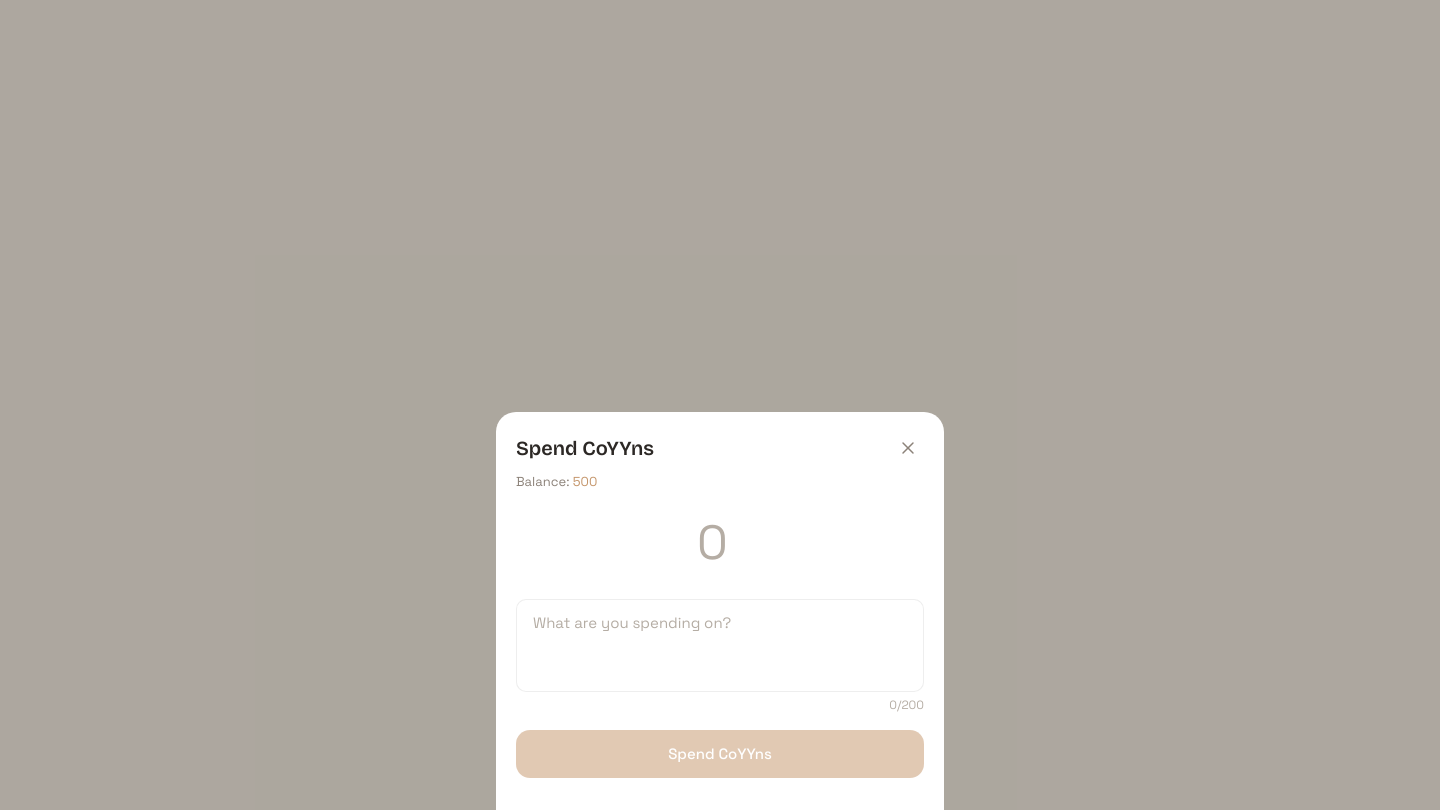
Test: SpendCoyynsForm › shows root error if spendCoyyns throws
Type "50" into the number field with test id "spend-amount-input".
click(720, 547); type("50")  # box [516, 512, 924, 582]
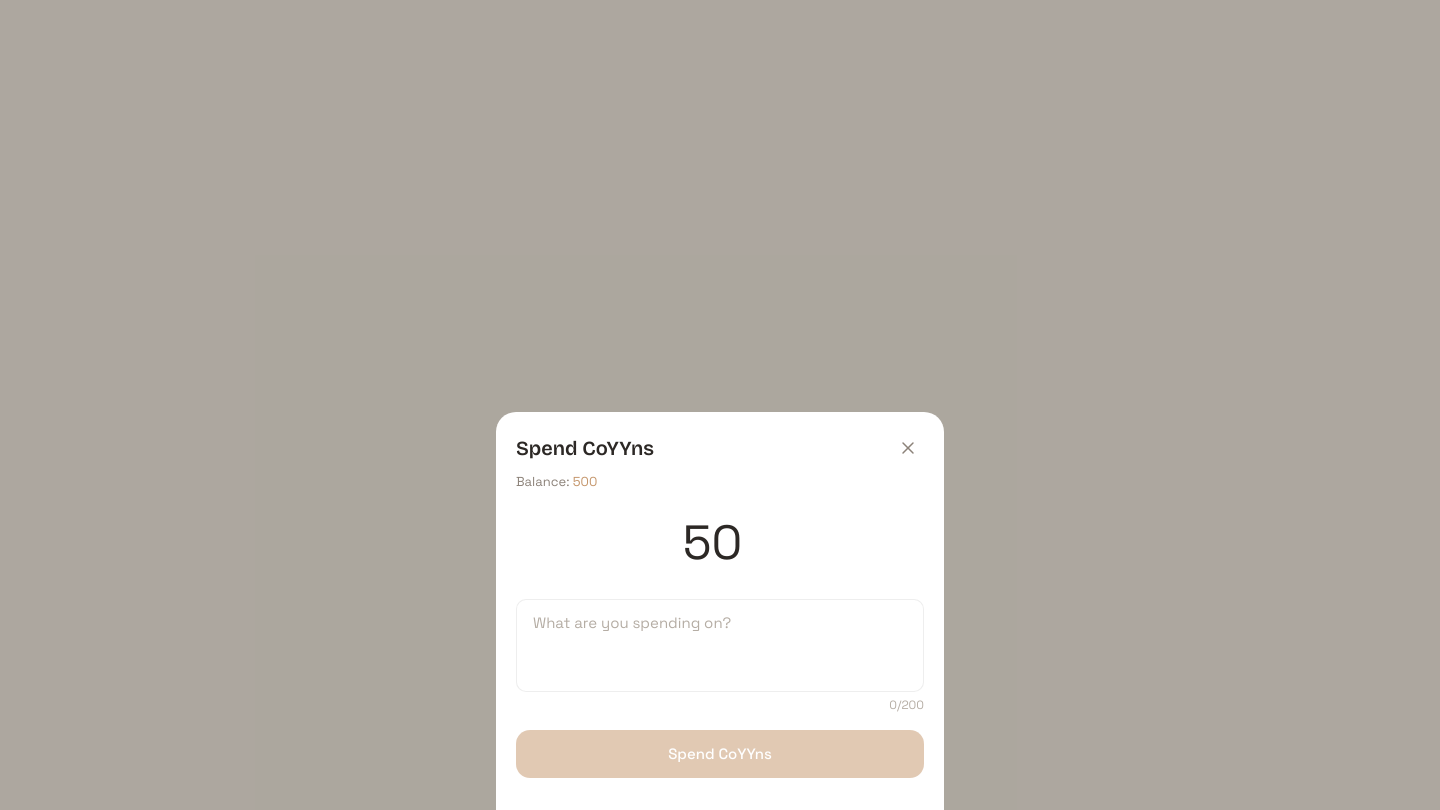
Type "Test" into the text box with test id "spend-description-input".
click(720, 645); type("Test")  # box [516, 598, 924, 692]
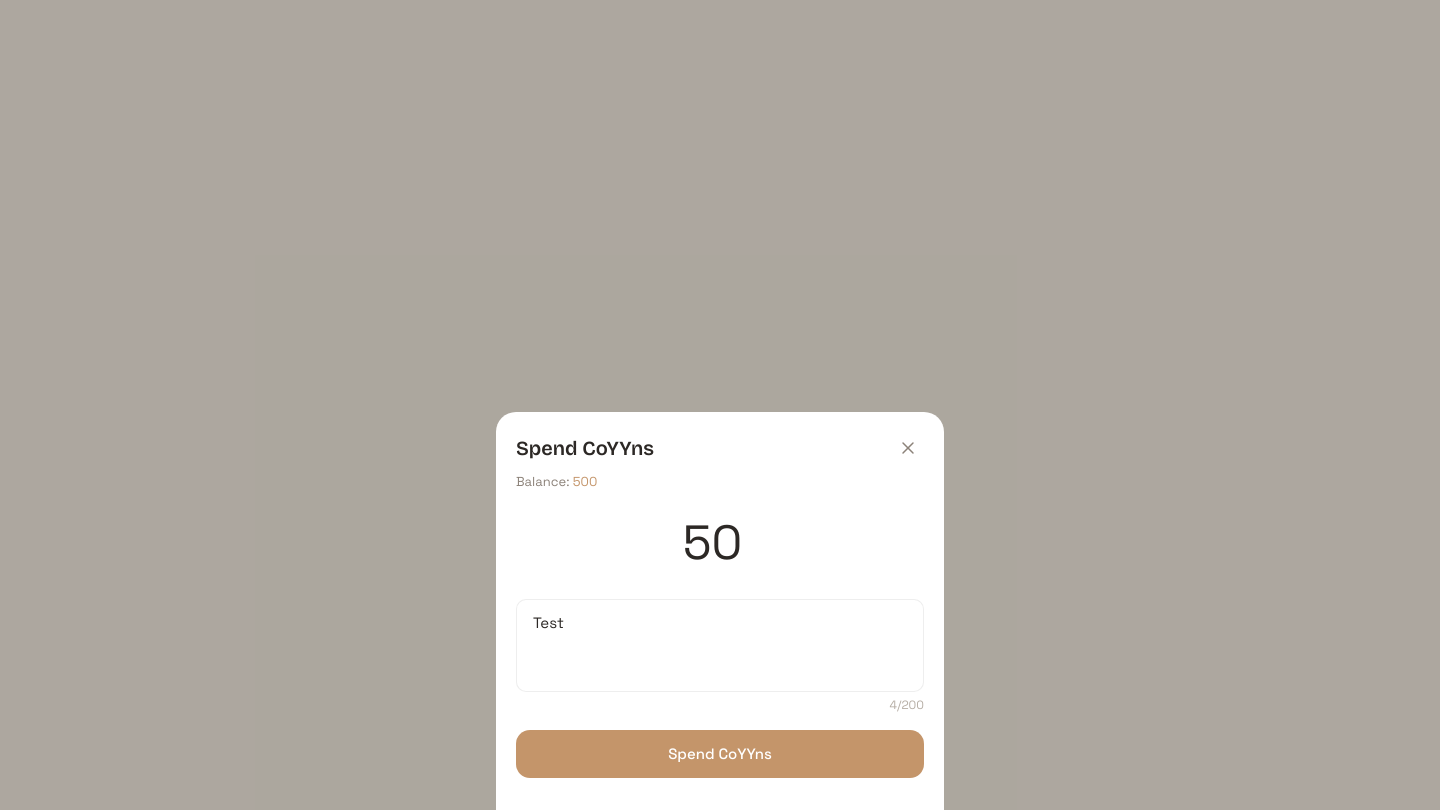
Click the button with test id "spend-submit-button".
click(720, 754)  # box [516, 730, 924, 778]
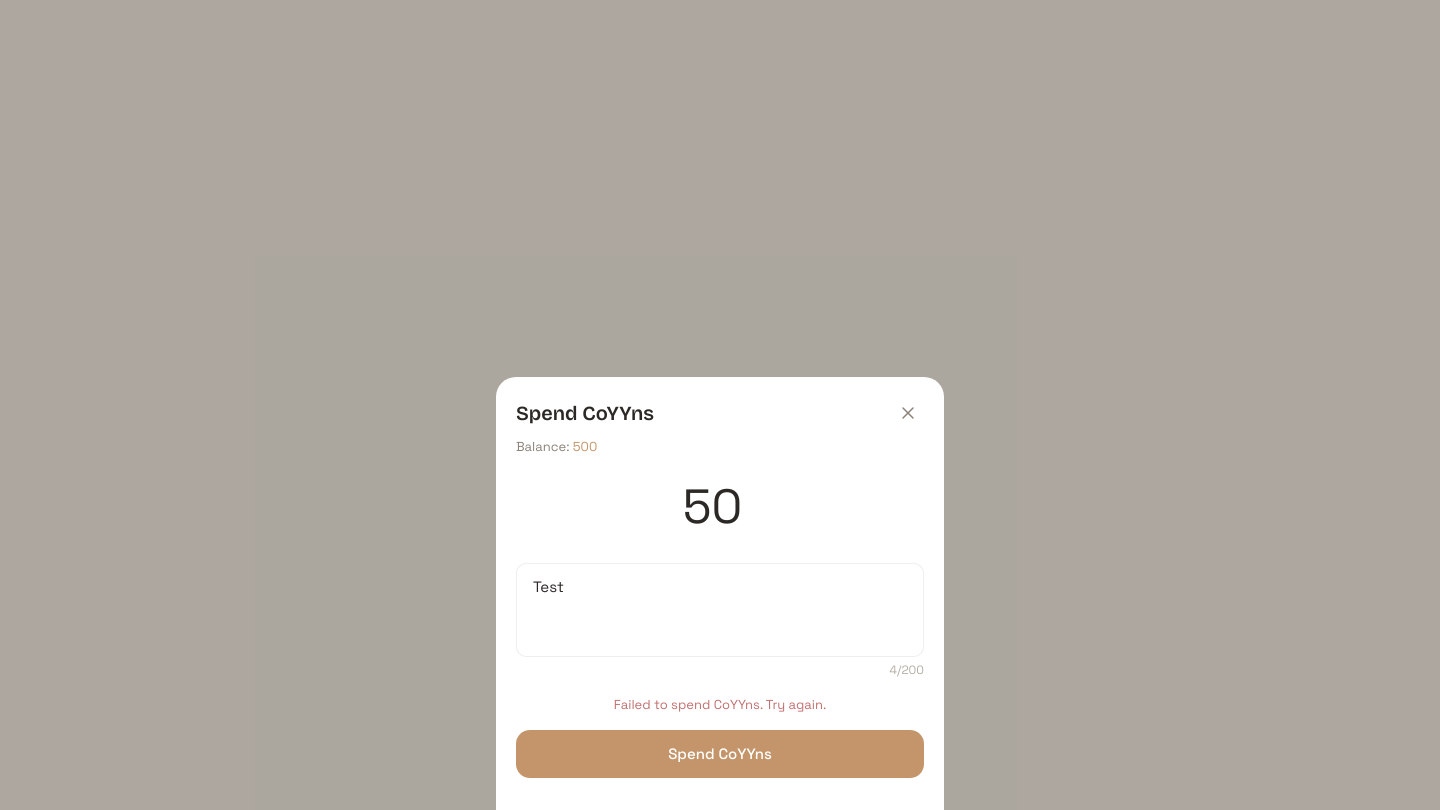
Now the text with test id "spend-form-error" reads "Failed to spend CoYYns. Try again.", box [614, 696, 826, 712]
